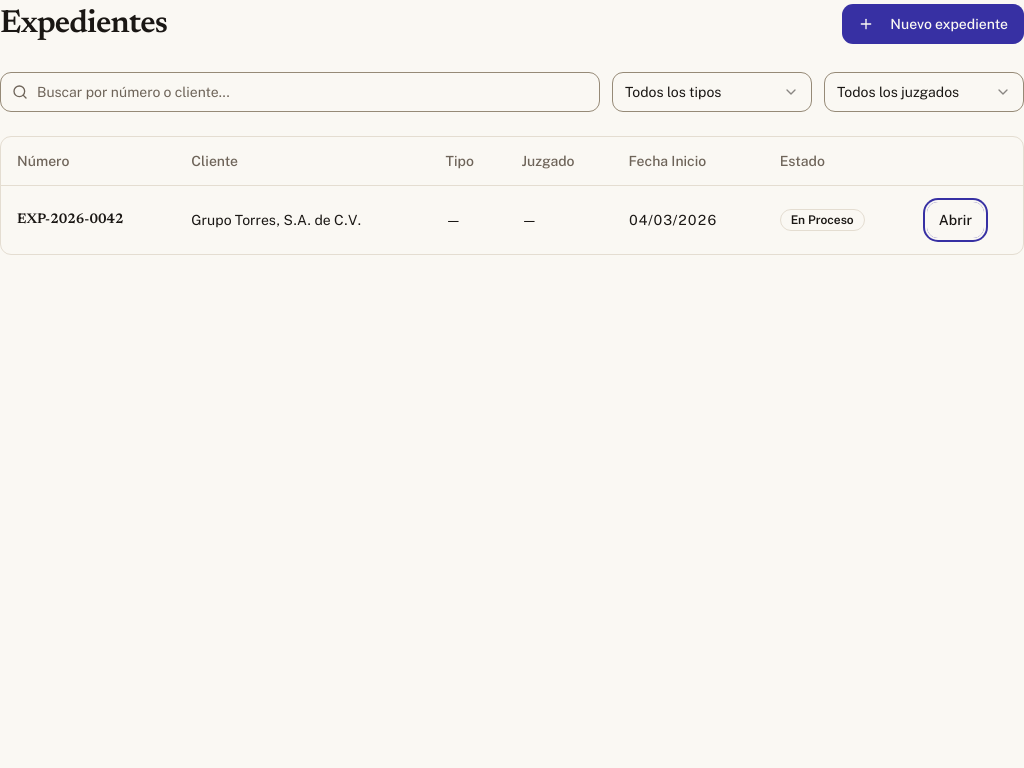
Test case: dialogs keep and return focus › returns focus to the row control when the panel is closed with Escape
Expected: the row "EXP-2026-0042" is shown, [1,185,1023,254]
Click the button "abrir ". click: (955, 220)
box: [927,202,984,238]
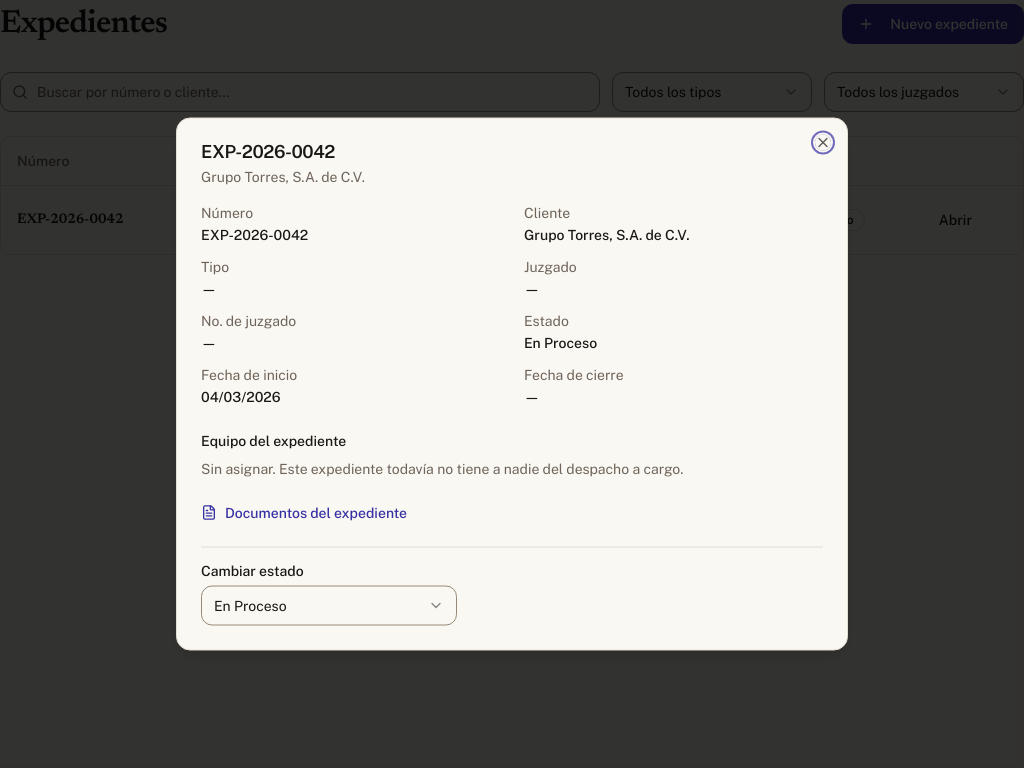
Now the dialog is shown, box [176,118,848,650]
Press Escape
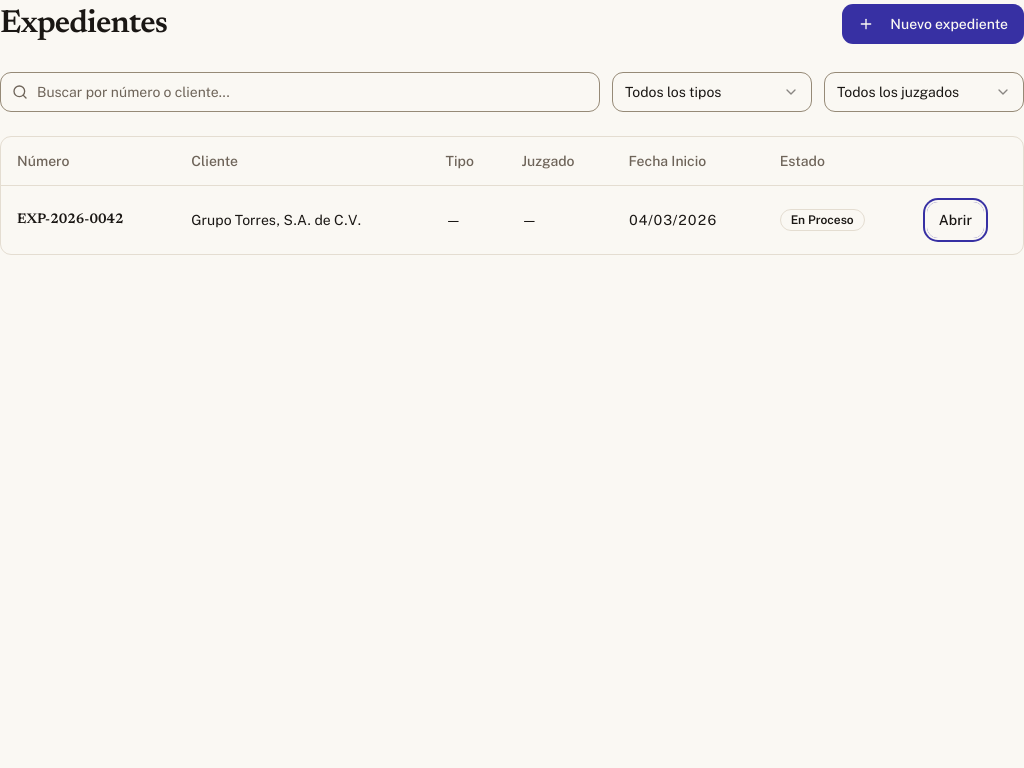
Now the dialog is gone
